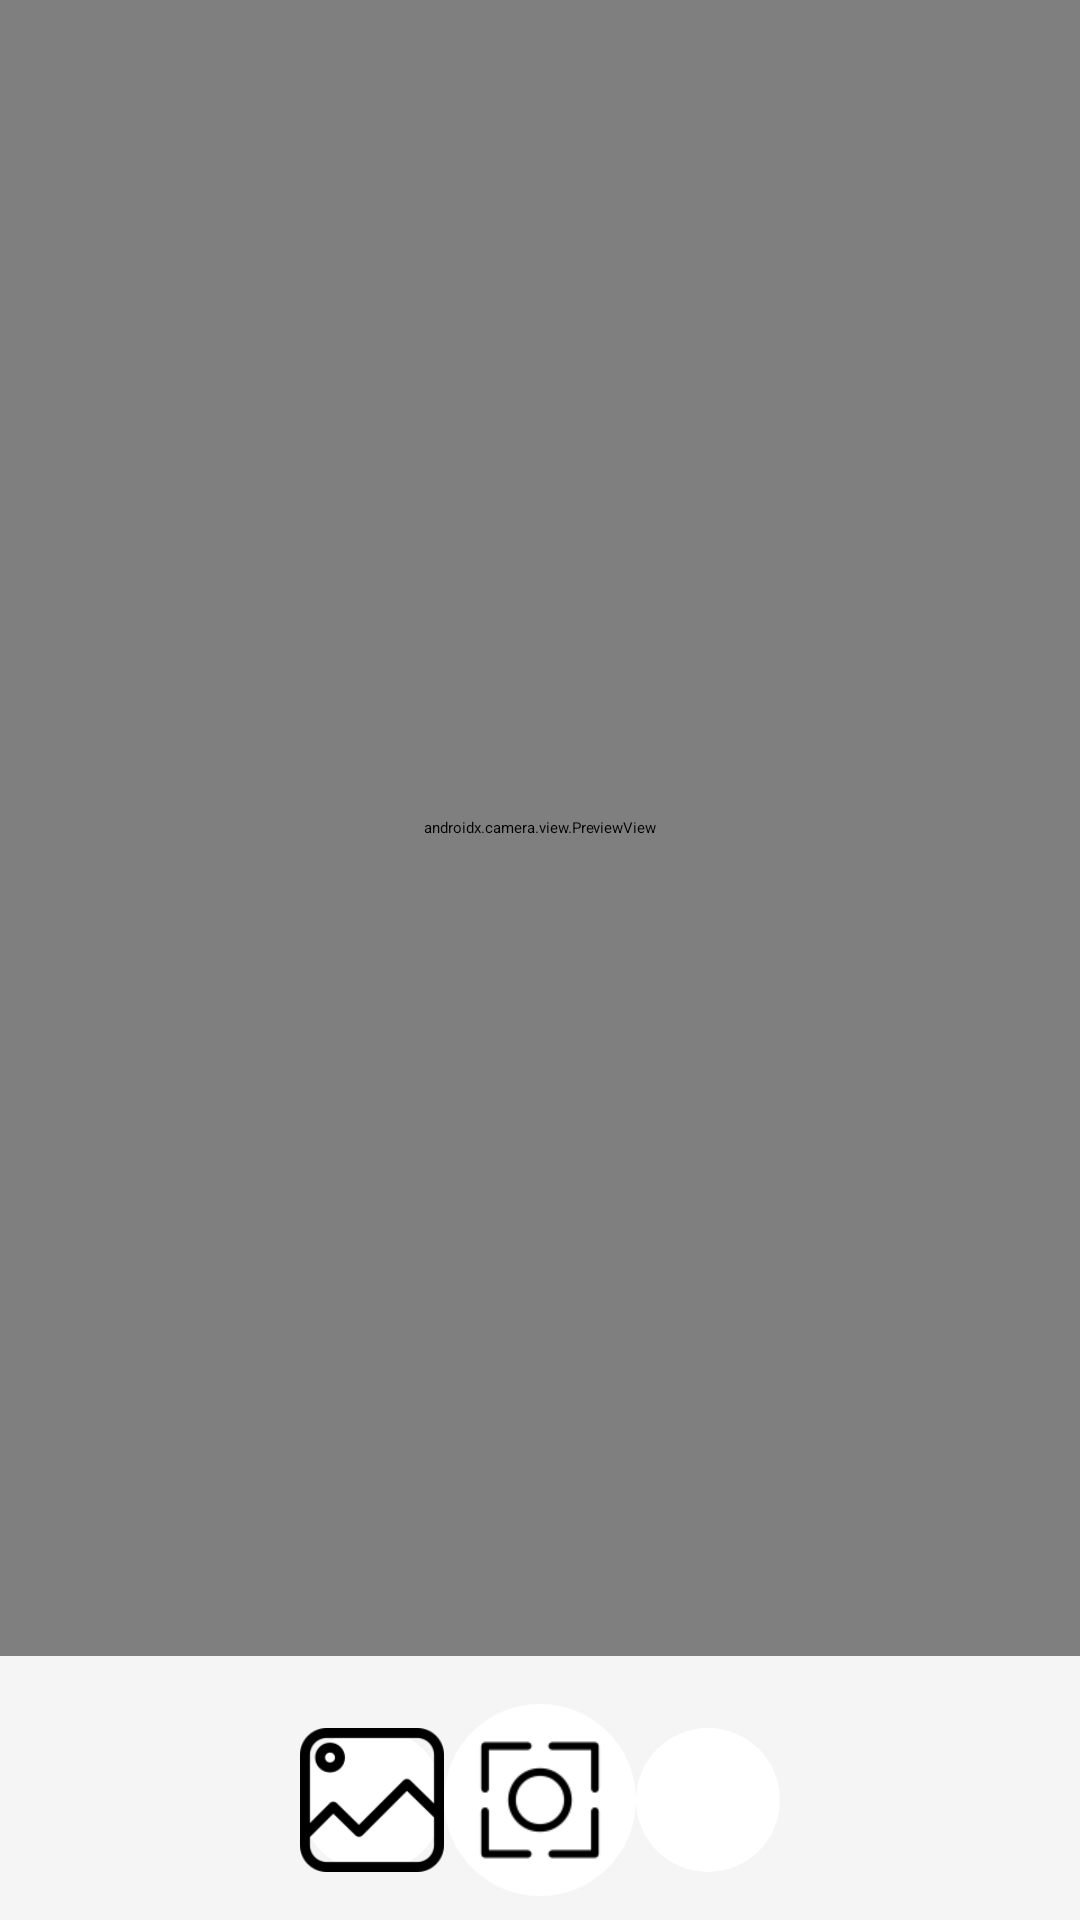

Named icons in this screenshot (1080×1920) and their centers, (x,y):
gallery: (372,1800)
